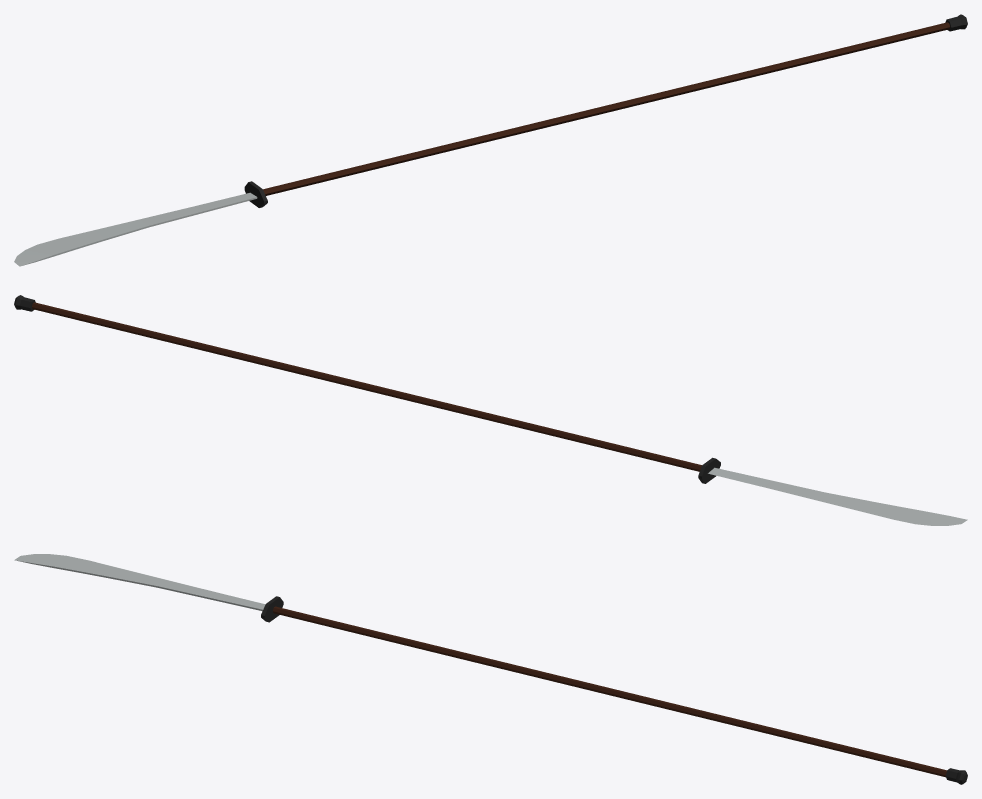
The model's file is Naginata_2.fbx.
The picture shows the model from 3 angles, top to bottom: view 1: azimuth 30°, elevation 25°; view 2: azimuth 150°, elevation 25°; view 3: azimuth 330°, elevation 25°; orthographic projection. The views are drawn at different scales.
Visible parts, largest first — view 1: Naginata_2; view 2: Naginata_2; view 3: Naginata_2.
Part boxes in pixels (x1,y1,x2,y2): Naginata_2: (14, 14, 967, 266); Naginata_2: (14, 295, 967, 525); Naginata_2: (14, 554, 967, 784).
Size of the model in its own units: 254 by 4.59 by 10.97.
